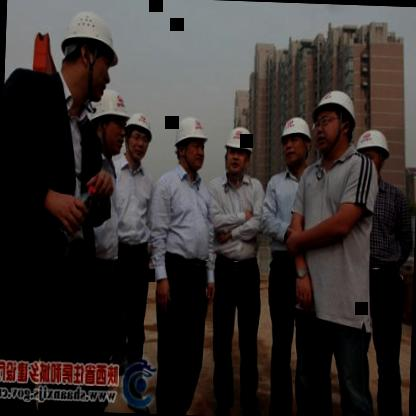helmet: (56, 8, 120, 103), (80, 86, 136, 159), (308, 84, 362, 159), (170, 110, 212, 176), (351, 126, 395, 185), (277, 114, 318, 174), (220, 119, 258, 182), (122, 108, 154, 166)
